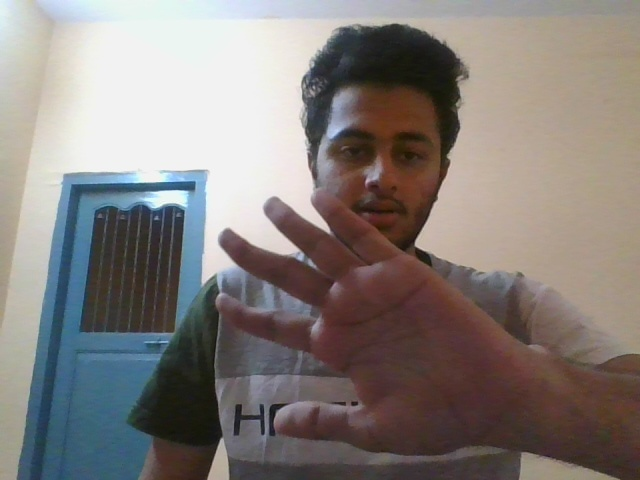Goodbye: (213, 186, 510, 459)
